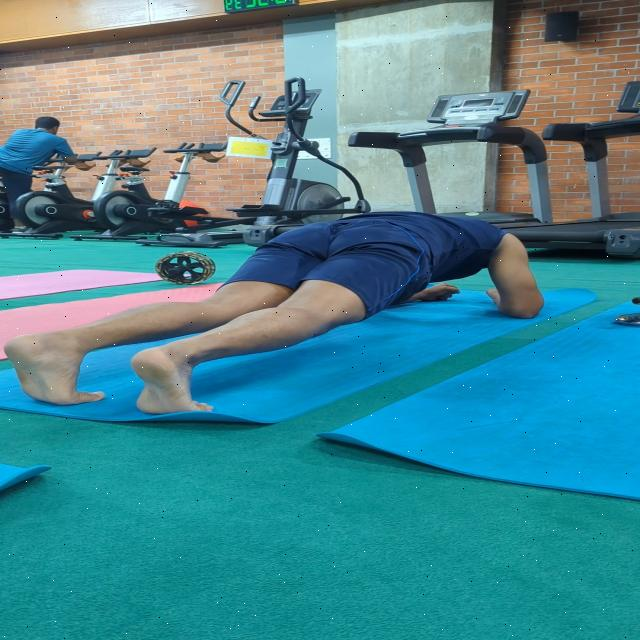Normal_Plunk: (0, 201, 551, 430)
